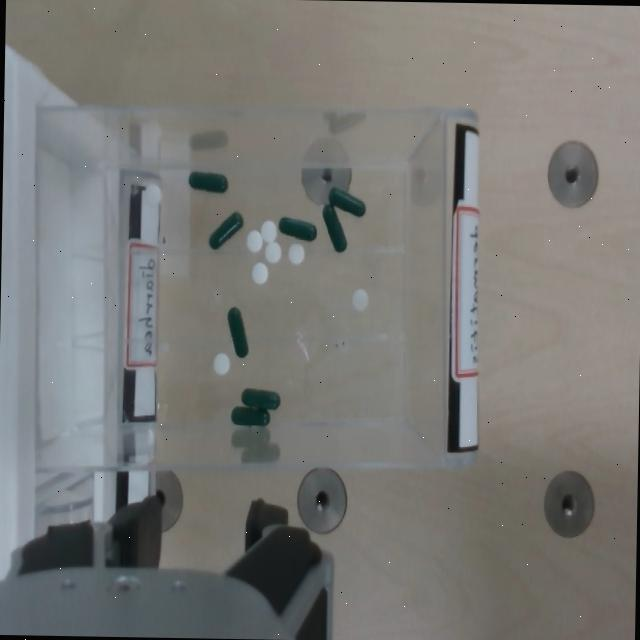ganakan_tab: (250, 260, 270, 285), (212, 350, 231, 376), (286, 240, 304, 265), (245, 228, 263, 253), (259, 221, 277, 244), (351, 288, 368, 310), (265, 241, 282, 263), (352, 289, 369, 310), (288, 242, 305, 263), (264, 241, 280, 263), (261, 220, 277, 242), (247, 229, 263, 251), (214, 353, 230, 375), (253, 261, 268, 283)
monodoxy_cap: (208, 208, 244, 250), (226, 305, 250, 358), (321, 204, 347, 252), (210, 211, 243, 248), (327, 185, 366, 216), (323, 203, 347, 251), (278, 215, 318, 242), (187, 169, 228, 194), (228, 306, 248, 357), (329, 188, 365, 216), (240, 386, 281, 410), (279, 216, 316, 240), (230, 405, 271, 426), (242, 388, 280, 410), (189, 172, 227, 193), (232, 405, 270, 425)
